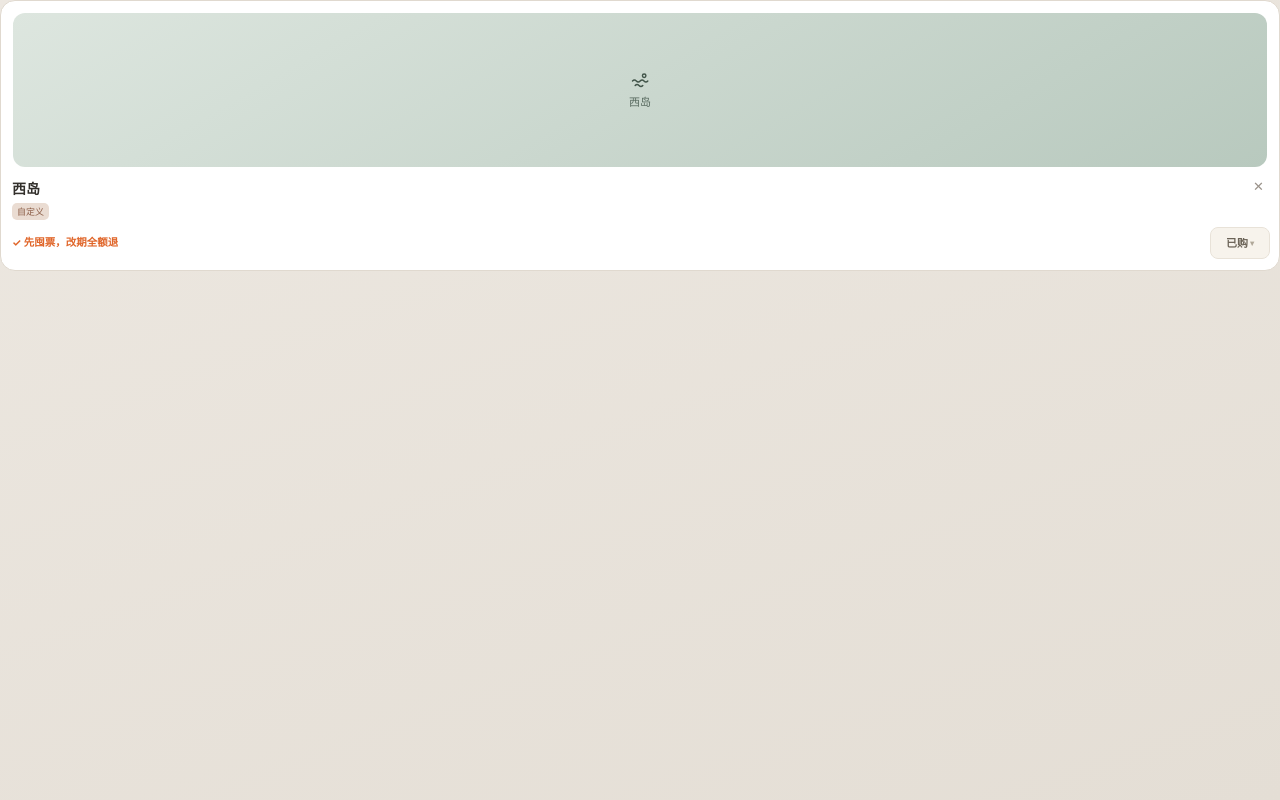
Test case: VisitCard 大景点购票入口（任务 127） › 已锁定且已购：父卡 ✕ 触发护栏，确认后先解锁、购票改未确定、再移除（不回归）
Later steps or results of the test are not shown.
Click the button titled "移除（移回候选池）" at (1259, 186), box x1=1249 y1=178 x2=1268 y2=195
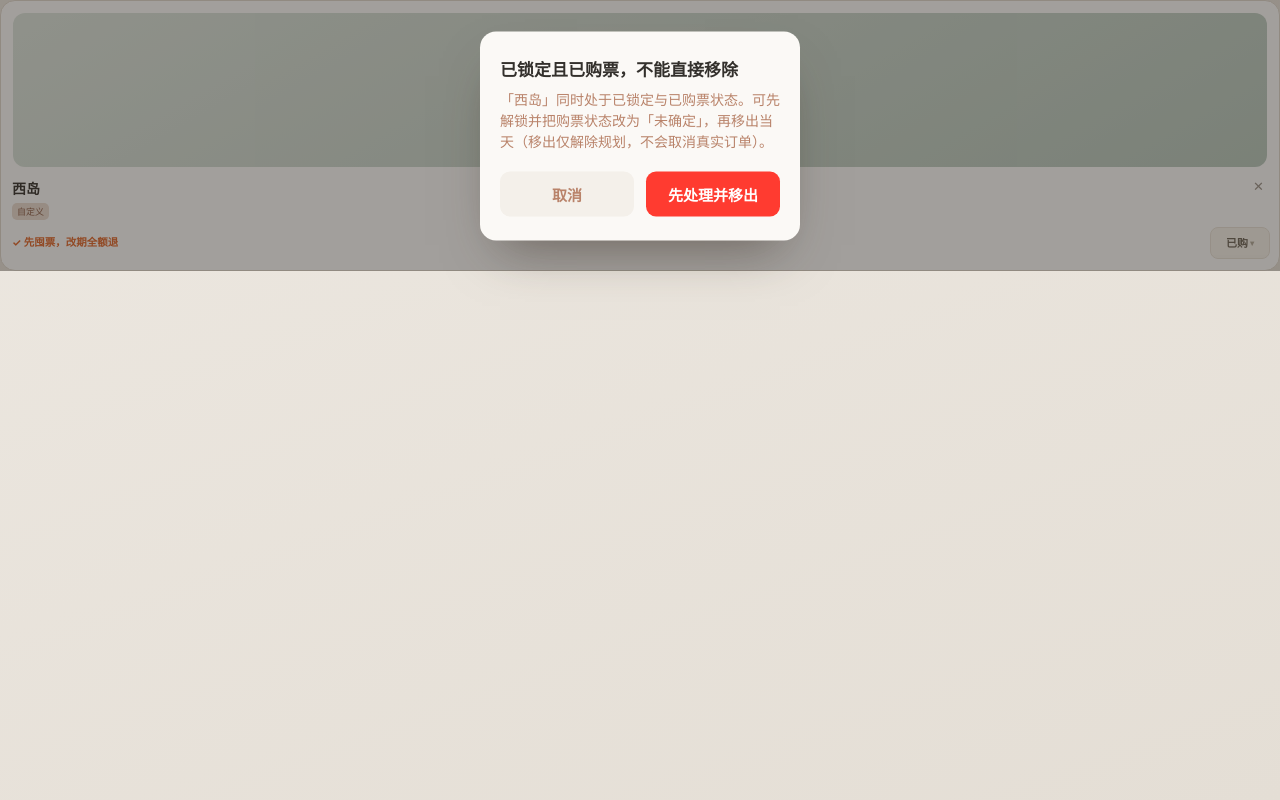
Now the dialog "已锁定且已购票，不能直接移除" is shown, box x1=480 y1=31 x2=800 y2=240
